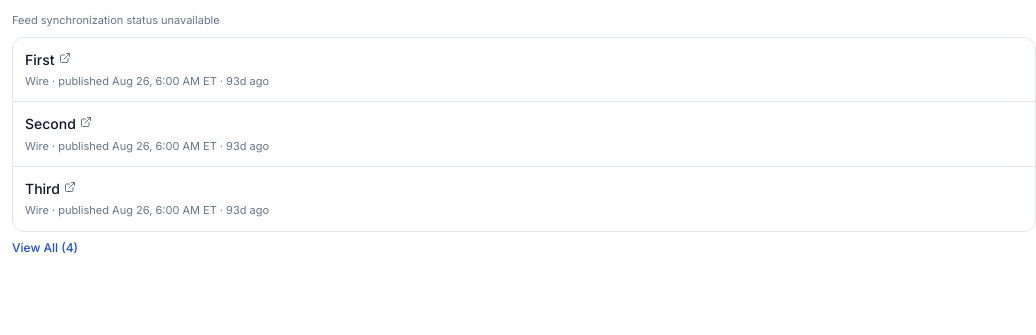
Test: earnings and headlines Top-3 › shows three headlines by default
Expected: the link "First" is shown, left=25, top=50, right=70, bottom=68
Expected: the text "Fourth" is not shown
Click the button "View All (4)" at (45, 248), box left=12, top=240, right=78, bottom=256
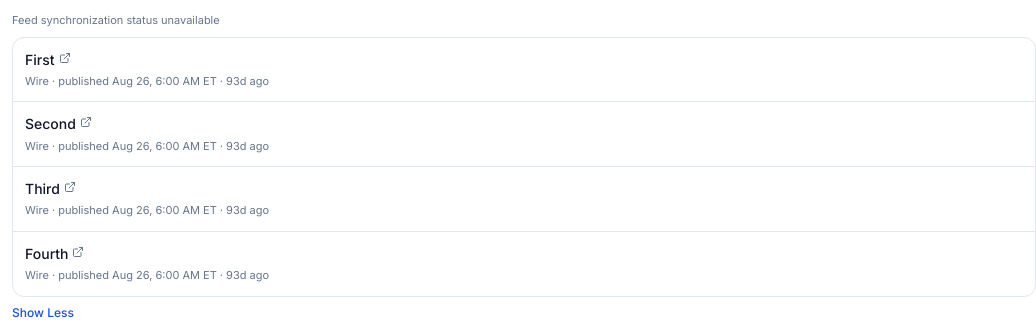
Result: the link "Fourth" is shown at left=25, top=245, right=84, bottom=262
